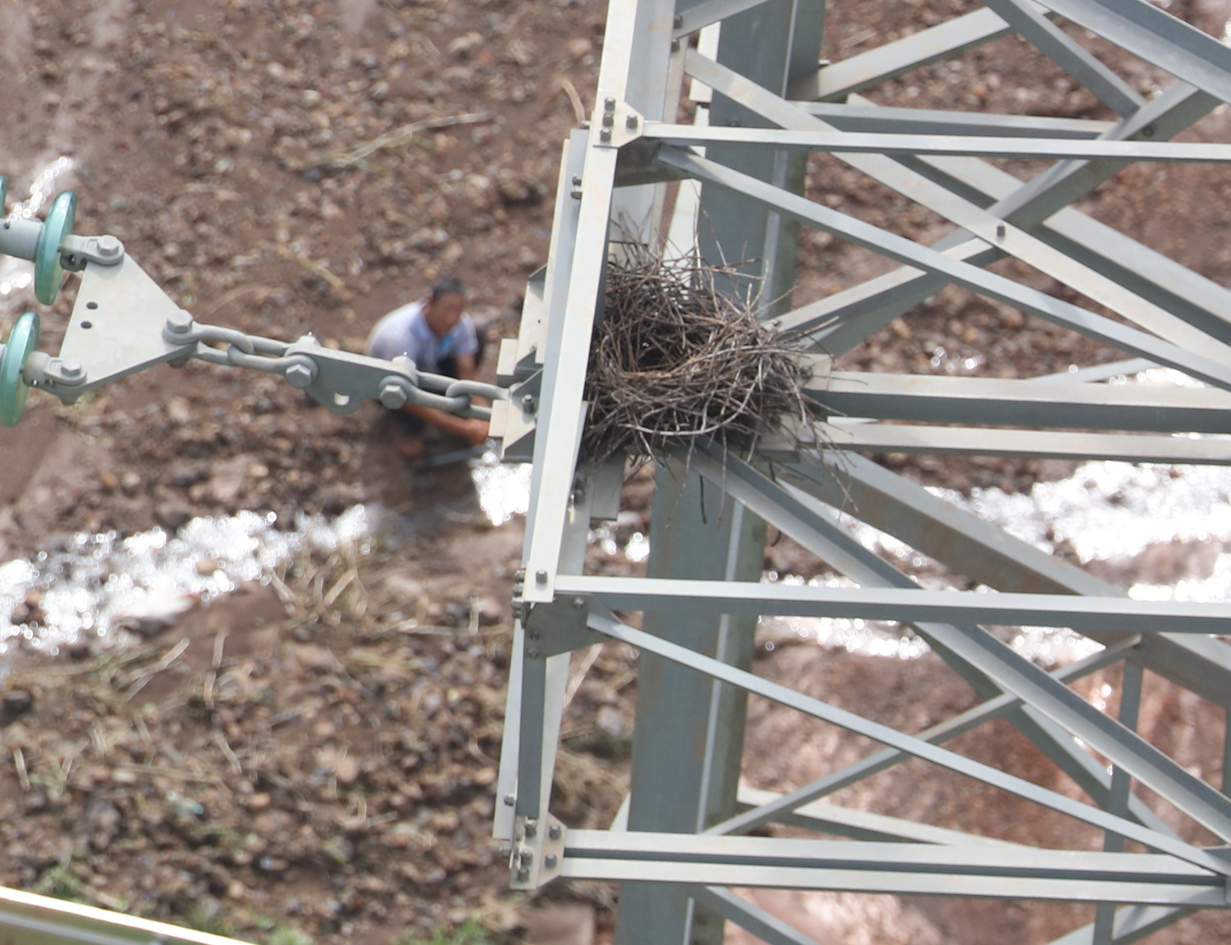nest: (579, 236, 803, 453)
